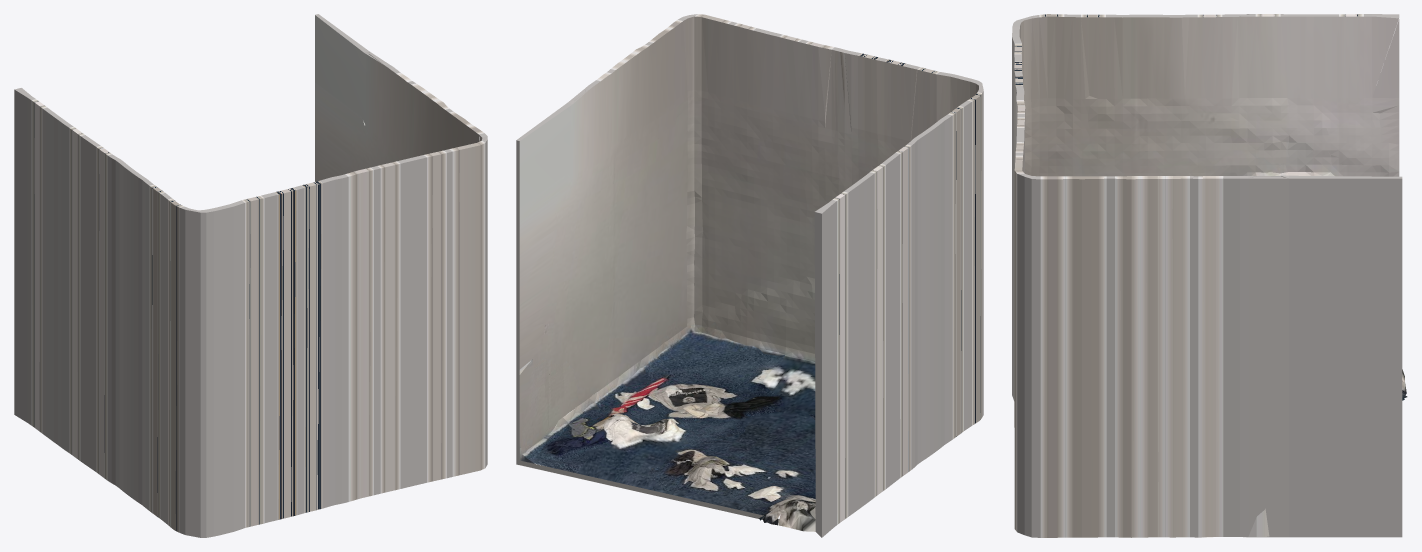
File: Floor-2048.glb
3 renders of one model, left to right at view 1: azimuth 30°, elevation 25°; view 2: azimuth 150°, elevation 25°; view 3: azimuth 270°, elevation 25°, orthographic. The views are drawn at different scales.
Visible parts, largest first — view 1: Mesh_0; view 2: Mesh_0; view 3: Mesh_0.
Boxes of the visible parts, x1,y1,x2,y2 form: Mesh_0: [14, 14, 487, 537]; Mesh_0: [516, 14, 983, 537]; Mesh_0: [1012, 14, 1407, 537].
Bounding box in the file's own units: 2.32 × 2.34 × 2.34.
Materials: 1 (1 with a texture image).
